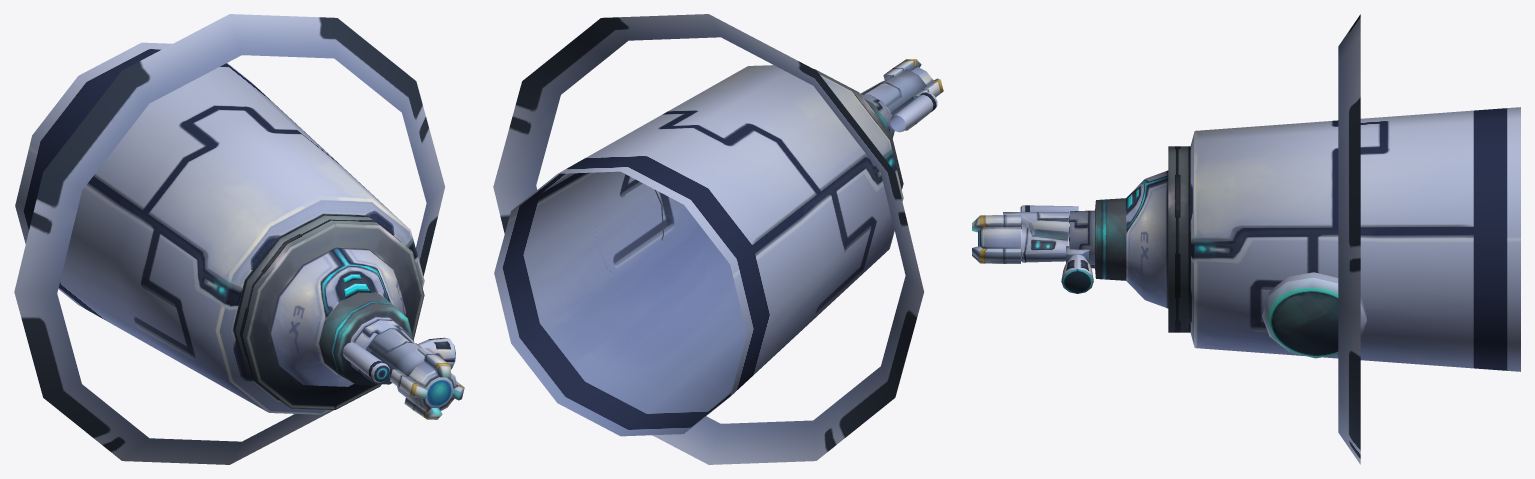
File: wangyuanjing.FBX
The picture shows the model from 3 angles, left to right: view 1: azimuth 30°, elevation 25°; view 2: azimuth 150°, elevation 25°; view 3: azimuth 270°, elevation 25°; orthographic projection. The views are drawn at different scales.
Parts seen in each view (by area): view 1: Object042; view 2: Object042; view 3: Object042.
Part boxes in pixels (left/top/right/bottom): Object042: left=14, top=14, right=464, bottom=464; Object042: left=493, top=14, right=943, bottom=464; Object042: left=972, top=14, right=1520, bottom=464.
Size of the model in its own units: 659 by 659 by 799.
